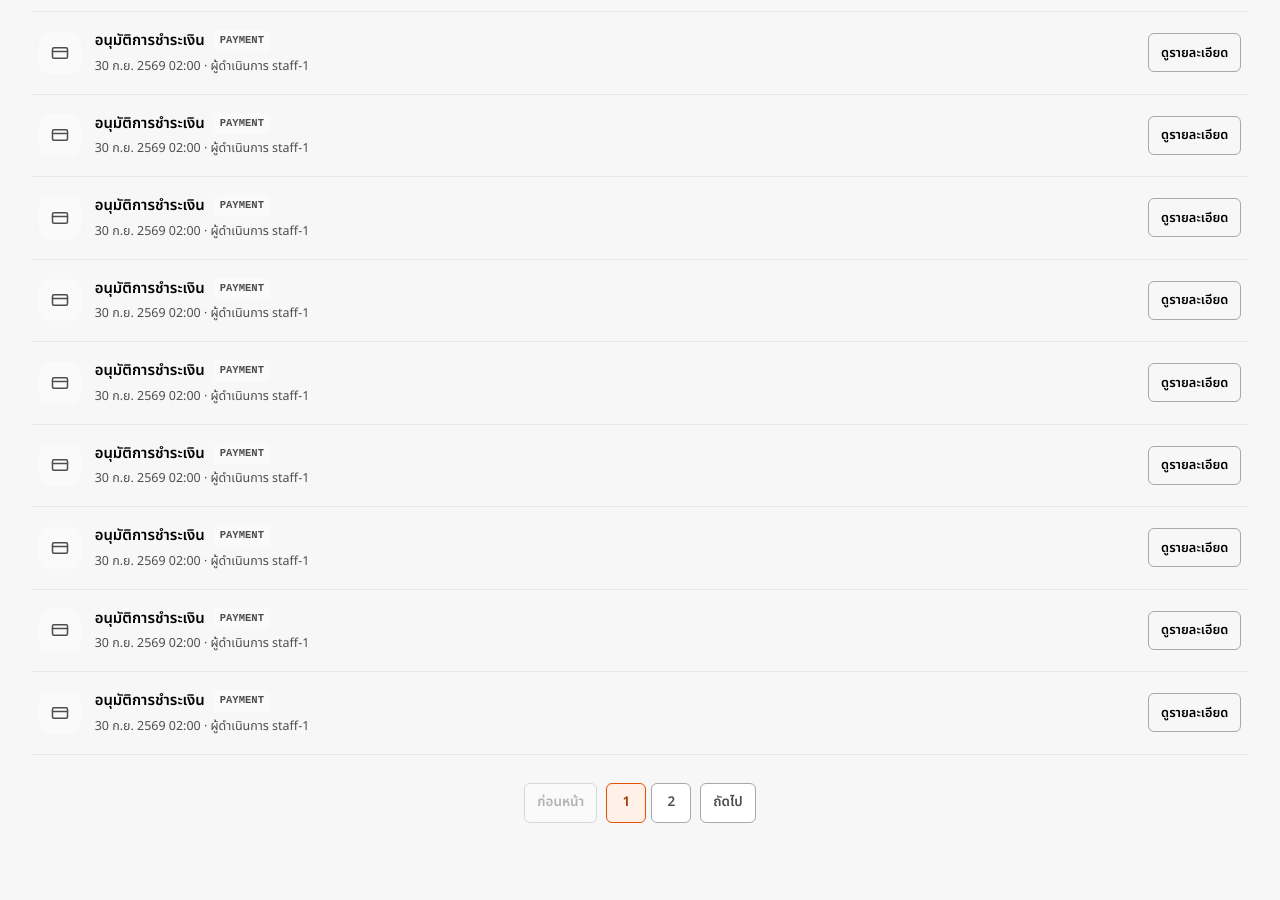
Test case: AuditView › preserves the current page when fetching the next cursor fails and allows a retry
(page scrolled)
What coordinates should you click on to do the following:
click the button "ถัดไป"
I would click on:
 (728, 803)
Its box is top-left (700, 783), bottom-right (756, 823).
(page scrolled)
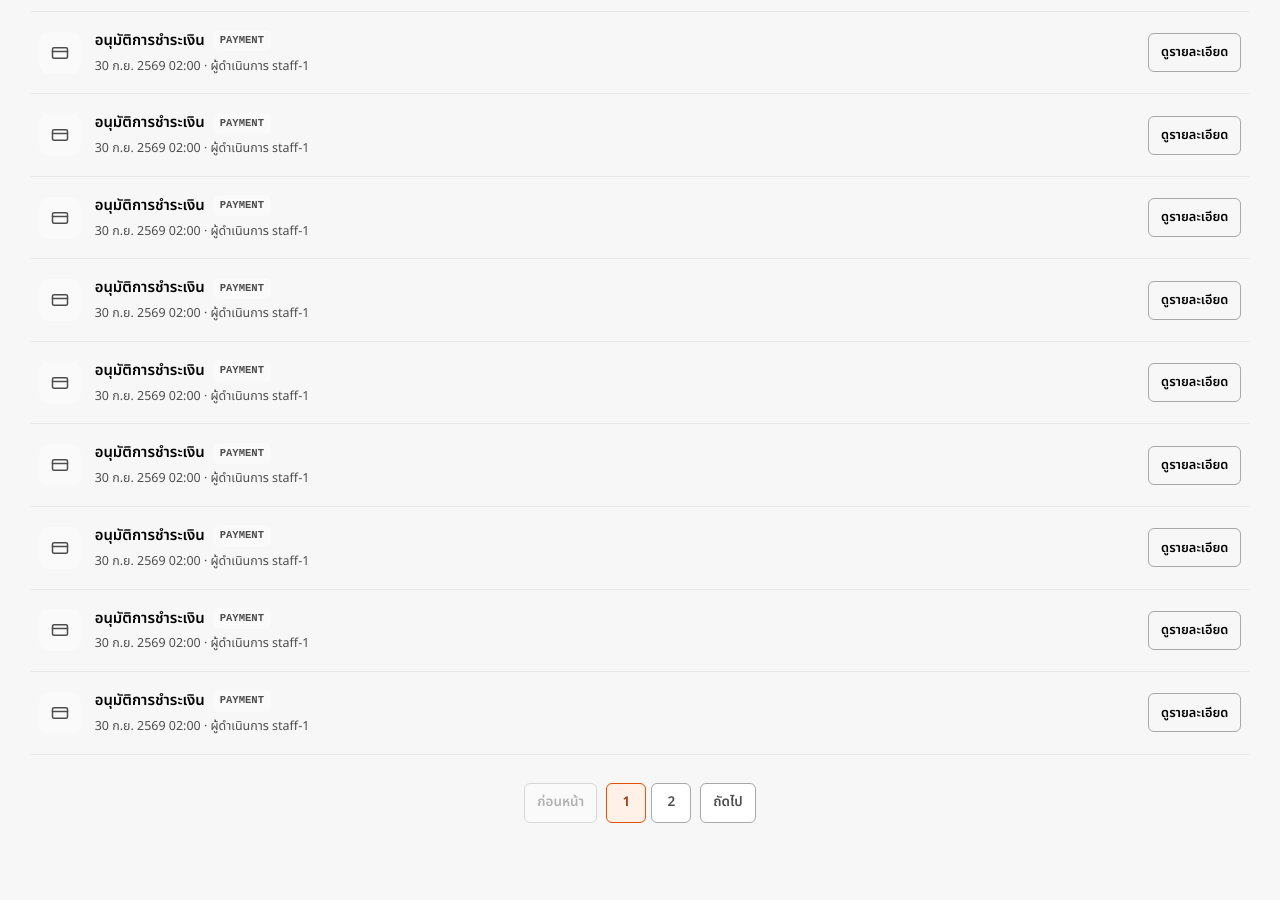
What coordinates should you click on to do the following:
click the button "ถัดไป"
I would click on:
 (728, 802)
Its box is top-left (700, 782), bottom-right (756, 822).
(page scrolled)
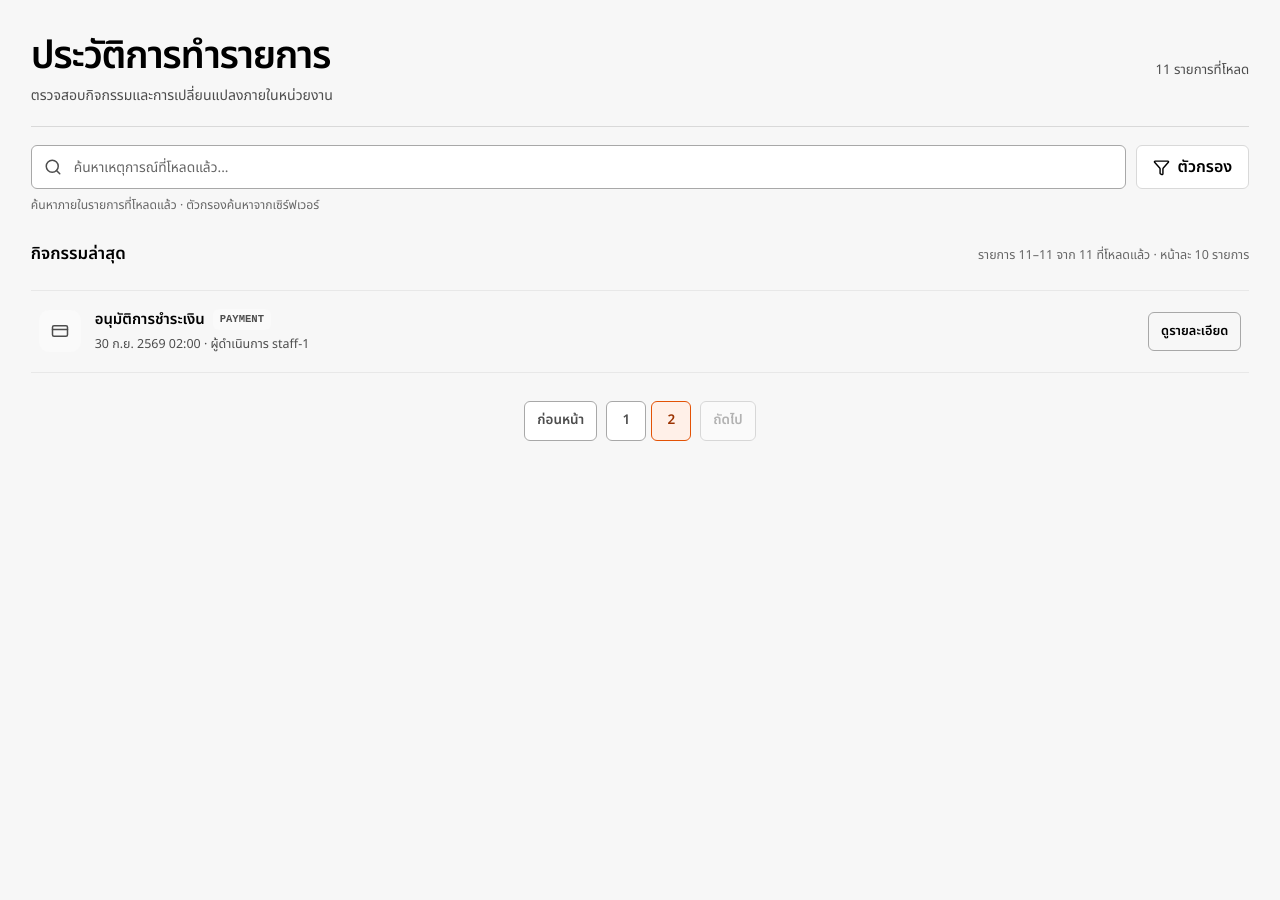
Expected: the number of list items is 1, top-left (31, 290), bottom-right (1249, 373)
